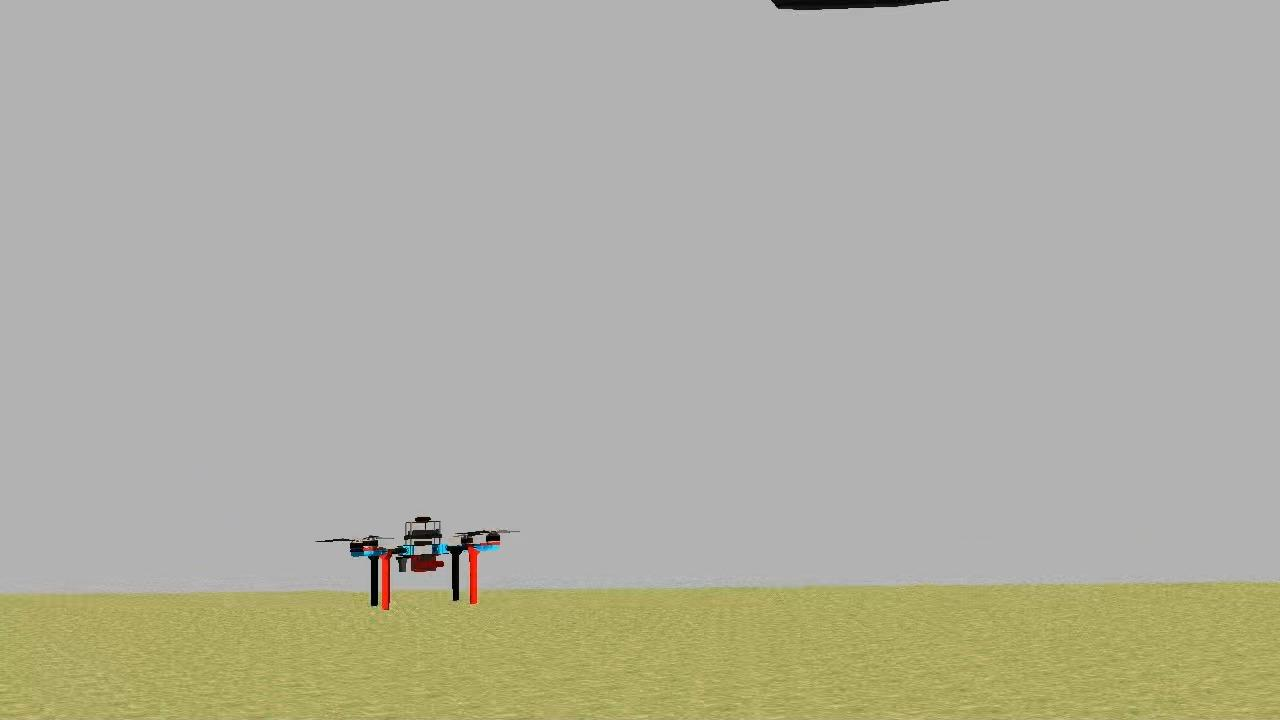UAV: (344, 512, 500, 612)
